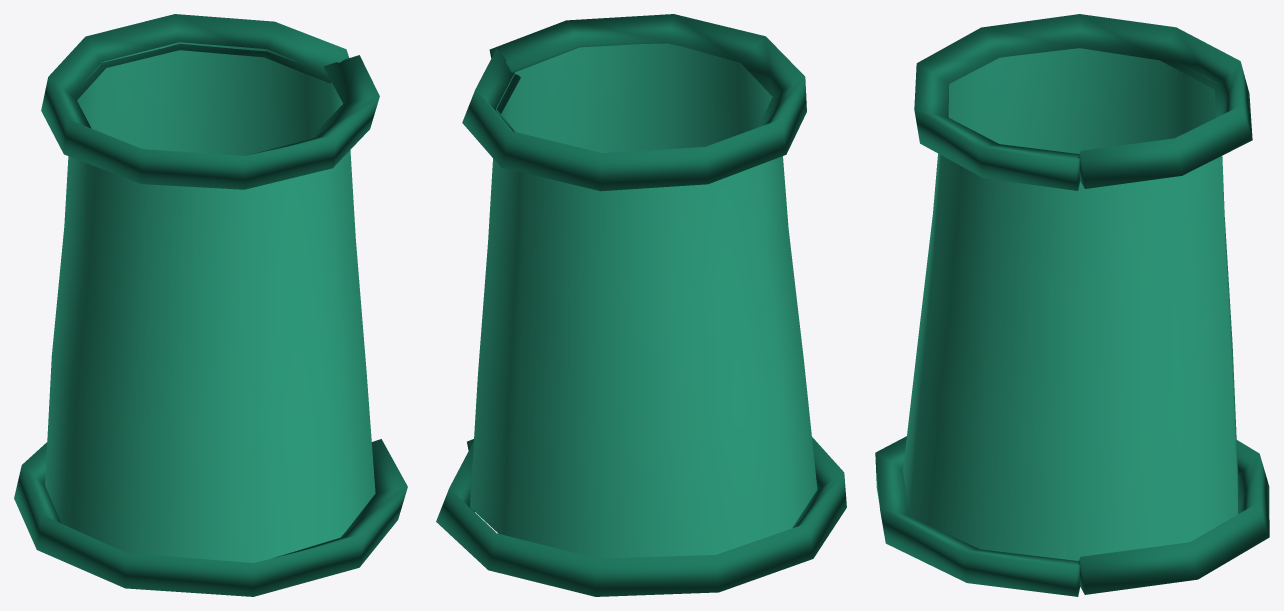
File: mythril_armor_bracer.L.glb
3 views of the same model, side by side, from view 1: azimuth 30°, elevation 25°; view 2: azimuth 150°, elevation 25°; view 3: azimuth 270°, elevation 25° (orthographic). The views are drawn at different scales.
Visible parts, largest first — view 1: mythril_armor_bracer.L; view 2: mythril_armor_bracer.L; view 3: mythril_armor_bracer.L.
Boxes of the visible parts, x1,y1,x2,y2 form: mythril_armor_bracer.L: [14, 14, 407, 596]; mythril_armor_bracer.L: [436, 14, 846, 596]; mythril_armor_bracer.L: [875, 14, 1269, 596].
Size of the model in its own units: 0.144 by 0.1719 by 0.1414.
